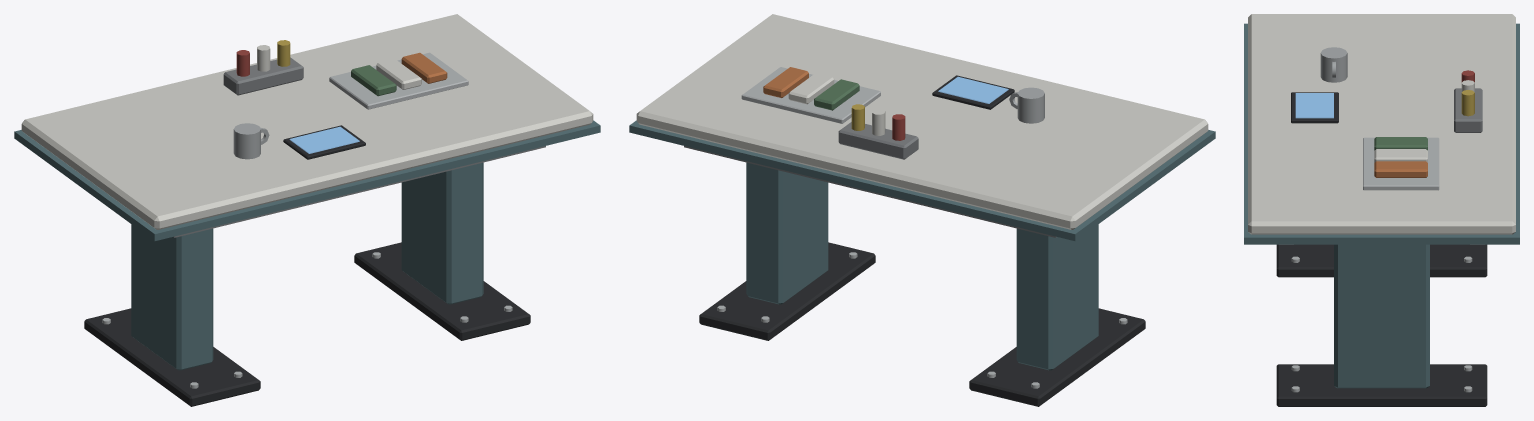
Rendered from astro_table.fbx.
3 renders of one model, left to right at view 1: azimuth 30°, elevation 25°; view 2: azimuth 150°, elevation 25°; view 3: azimuth 270°, elevation 25°, orthographic.
Parts seen in each view (by area): view 1: Table_Body; view 2: Table_Body; view 3: Table_Body.
Part boxes in pixels (<box>): Table_Body: <box>14,14,600,406</box>; Table_Body: <box>629,14,1215,406</box>; Table_Body: <box>1244,14,1519,406</box>.
Size of the model in its own units: 264 by 140 by 144.
